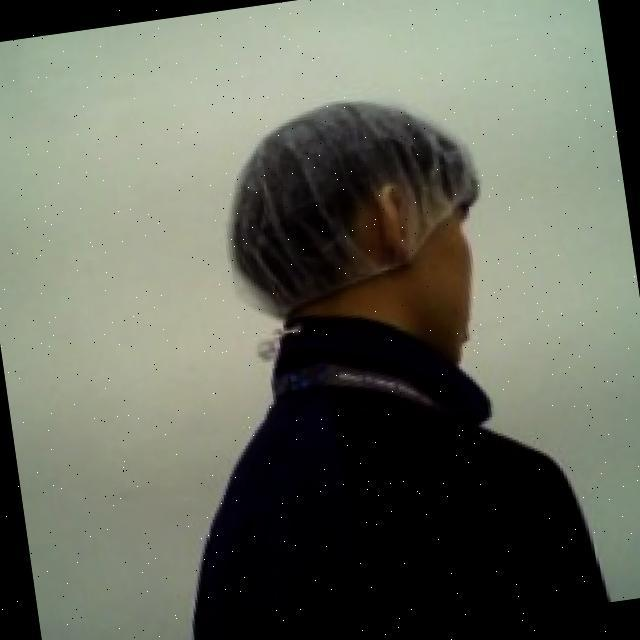gloves: (198, 70, 505, 331)
